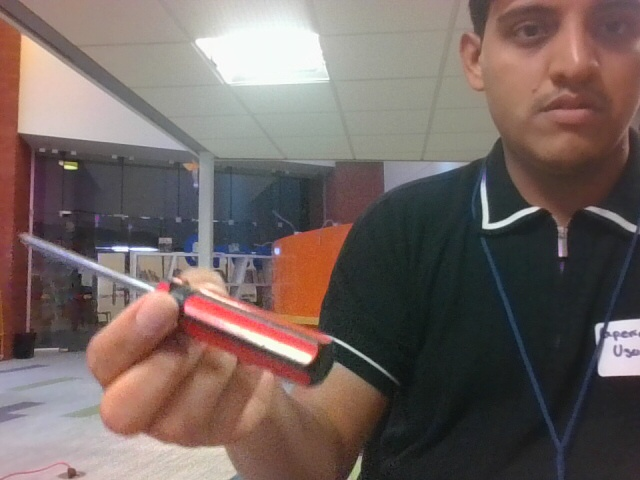destornillador: (19, 233, 343, 386)
